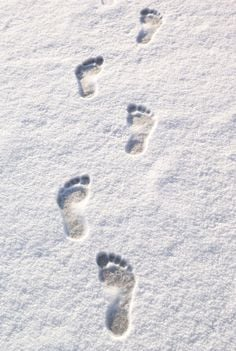human_foot_print: (92, 245, 150, 340), (54, 170, 91, 242), (123, 91, 158, 166), (69, 46, 106, 102), (129, 1, 168, 48)
